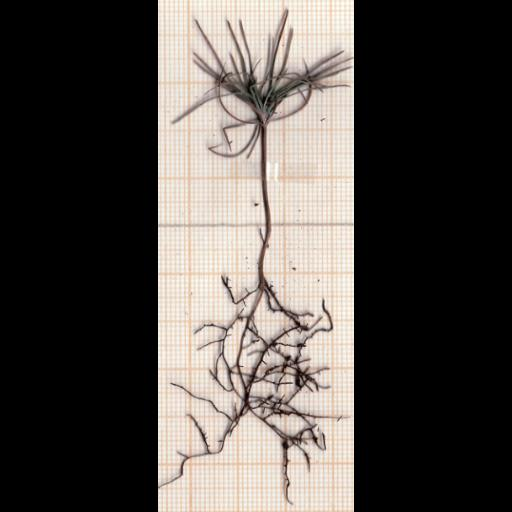flowerCedr: (175, 10, 353, 156)
rootCedr: (201, 281, 333, 401), (179, 364, 242, 424), (175, 418, 236, 479), (297, 410, 330, 446), (236, 412, 277, 434), (277, 434, 304, 452)
stemCedr: (257, 125, 271, 284)
